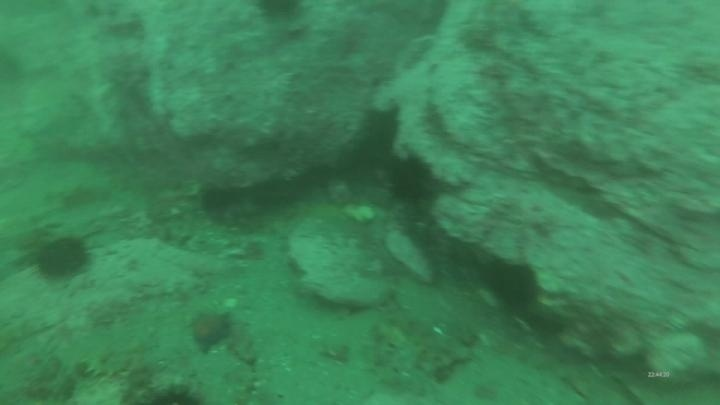echinus: (30, 232, 94, 283), (487, 258, 546, 313), (385, 153, 436, 206), (142, 377, 208, 405), (252, 1, 309, 27)
holothurian: (75, 344, 147, 383), (116, 352, 157, 405), (363, 317, 392, 371)
starfish: (185, 307, 235, 355)
